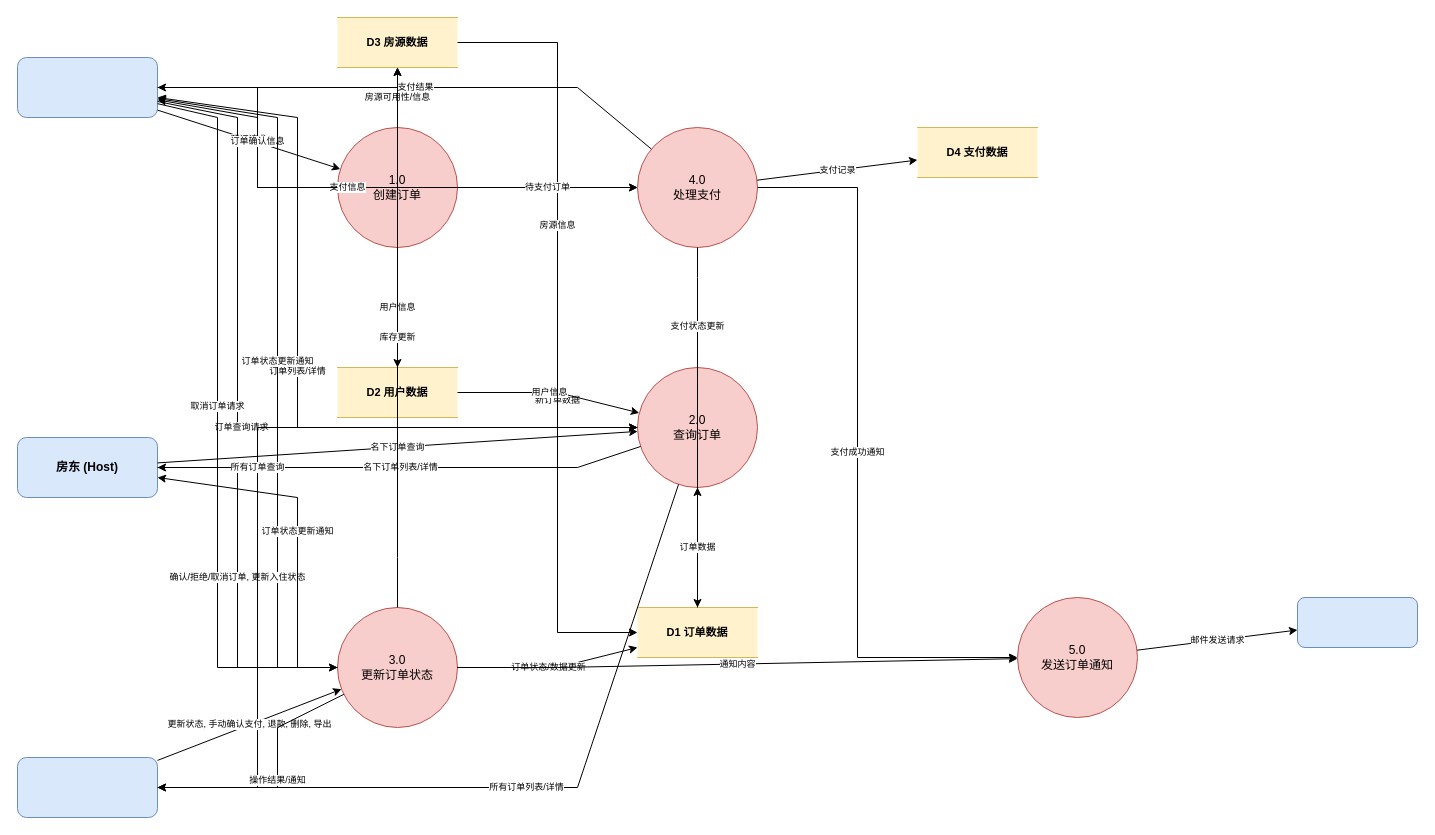
The diagram is 1435 pixels wide and 835 high, and some of its shapes have lost their labels. Here are the shapes that lost their labels. From the top down, the centre of each, then its label:
At point (87, 87): "用户 (User)".
At point (1357, 622): "邮件服务".
At point (87, 787): "管理员 (Admin)".
